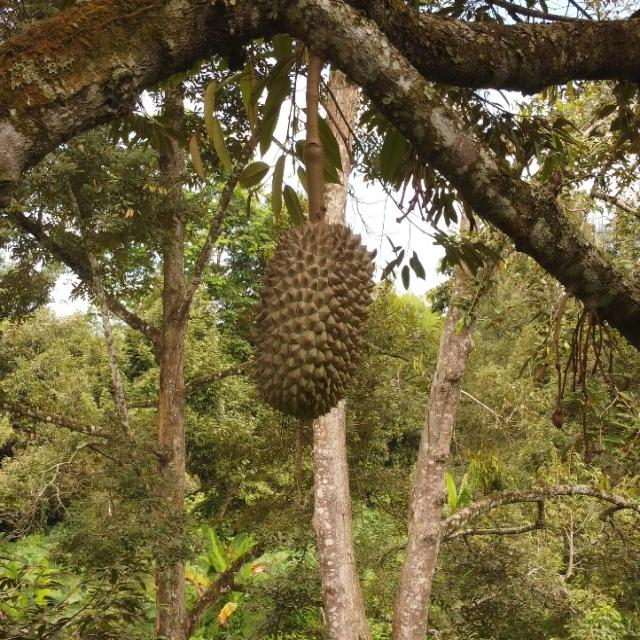mature: (251, 217, 378, 423)
